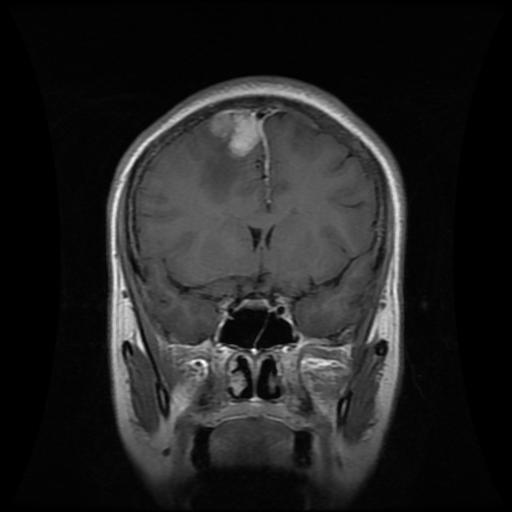Menigiomia_tumour: (210, 109, 261, 154)
